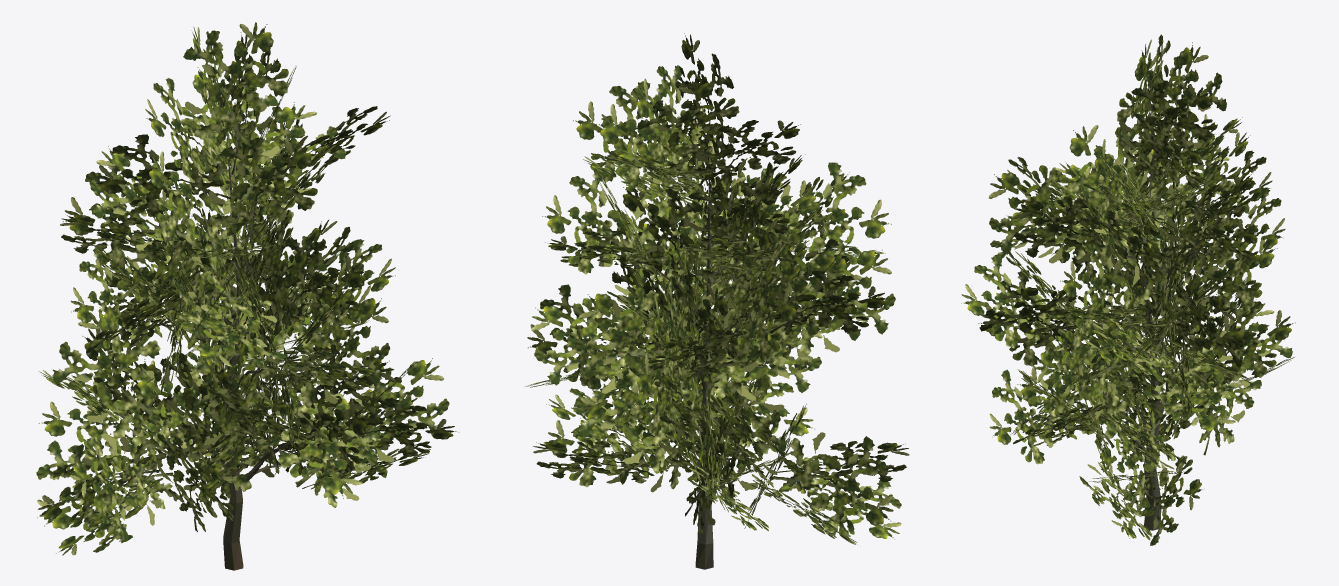
File: laubbaum_00.glb
3 views of the same model, side by side, from view 1: azimuth 30°, elevation 25°; view 2: azimuth 150°, elevation 25°; view 3: azimuth 270°, elevation 25° (orthographic). The views are drawn at different scales.
Visible parts, largest first — view 1: laub, rinde; view 2: laub, rinde; view 3: laub, rinde.
Boxes of the visible parts, bbox=[...] form: laub: bbox=[36, 22, 458, 555]; rinde: bbox=[188, 157, 294, 570]; laub: bbox=[525, 33, 909, 544]; rinde: bbox=[650, 173, 774, 569]; laub: bbox=[961, 34, 1295, 545]; rinde: bbox=[1093, 154, 1193, 530].
Bounding box in the file's own units: 5.49 × 7.2 × 4.95.
2 materials, 1 textured.
